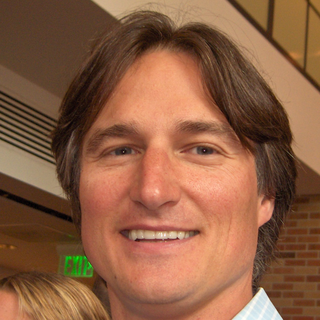eye: (180, 139, 228, 163), (98, 140, 145, 163)
